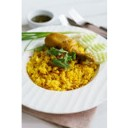briyani: (35, 35, 97, 90)
